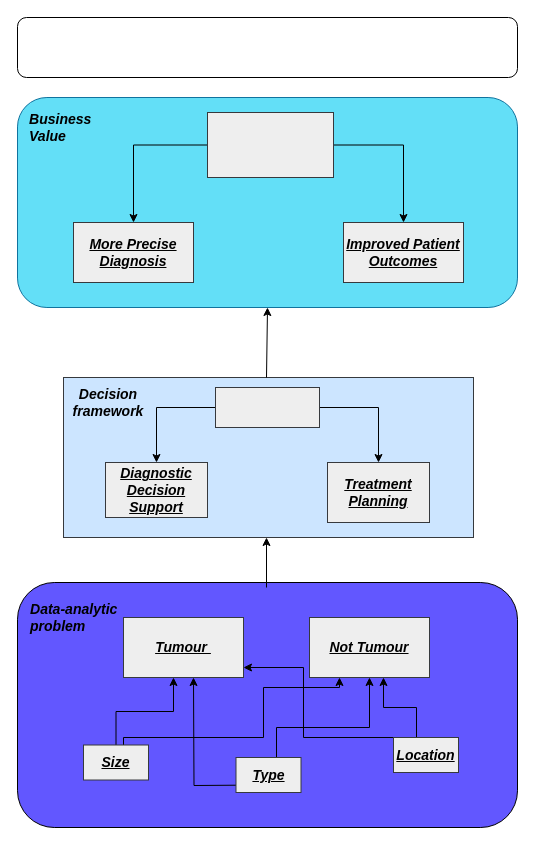
This 535x845 diagram has some shape labels left out. The shapes that lost their labels are listed below. From the top down, each one's box as (x1, y1, x2, y2) in pixels, then its label:
(16, 16, 518, 78): DAPS DIAGRAM for Brain Tumour Detection model classifier
(206, 112, 334, 178): Early and Fast Detection of Brain Tumours
(214, 386, 320, 428): Imaging Analysis
